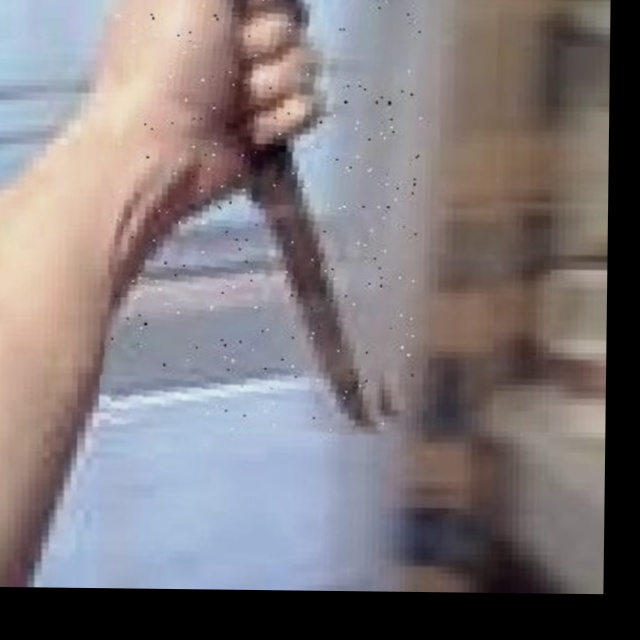Sharp-Object: (111, 0, 424, 431)
